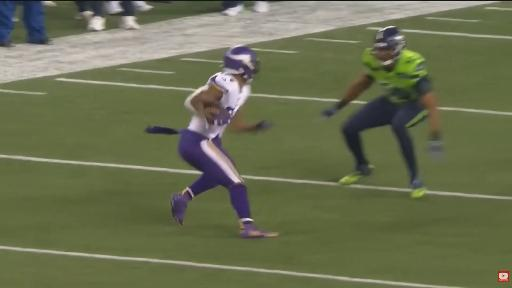Helmet: (374, 27, 405, 66), (223, 46, 259, 79)
Jersey: (363, 49, 427, 104), (191, 73, 250, 117)
Player: (171, 46, 277, 238), (323, 27, 442, 197)
